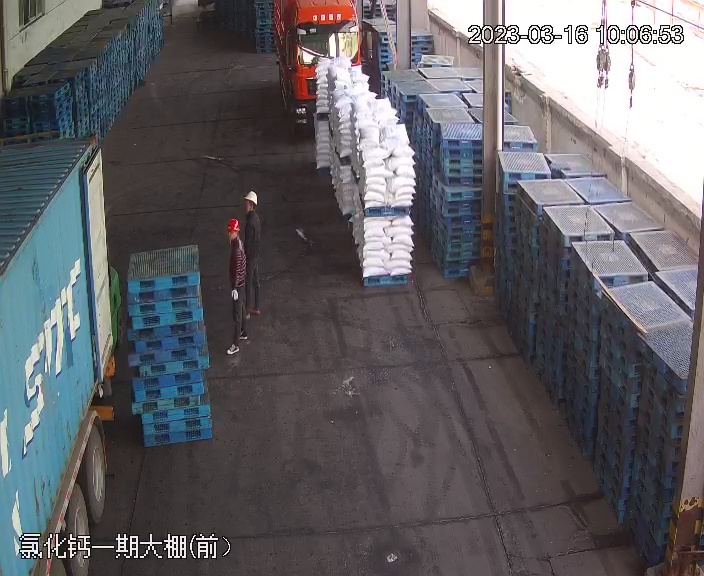head: (241, 191, 263, 233)
helmet: (224, 216, 241, 231), (242, 190, 257, 203)
people: (219, 213, 254, 358), (238, 188, 270, 318)
truck: (2, 129, 125, 576), (265, 1, 364, 118)
